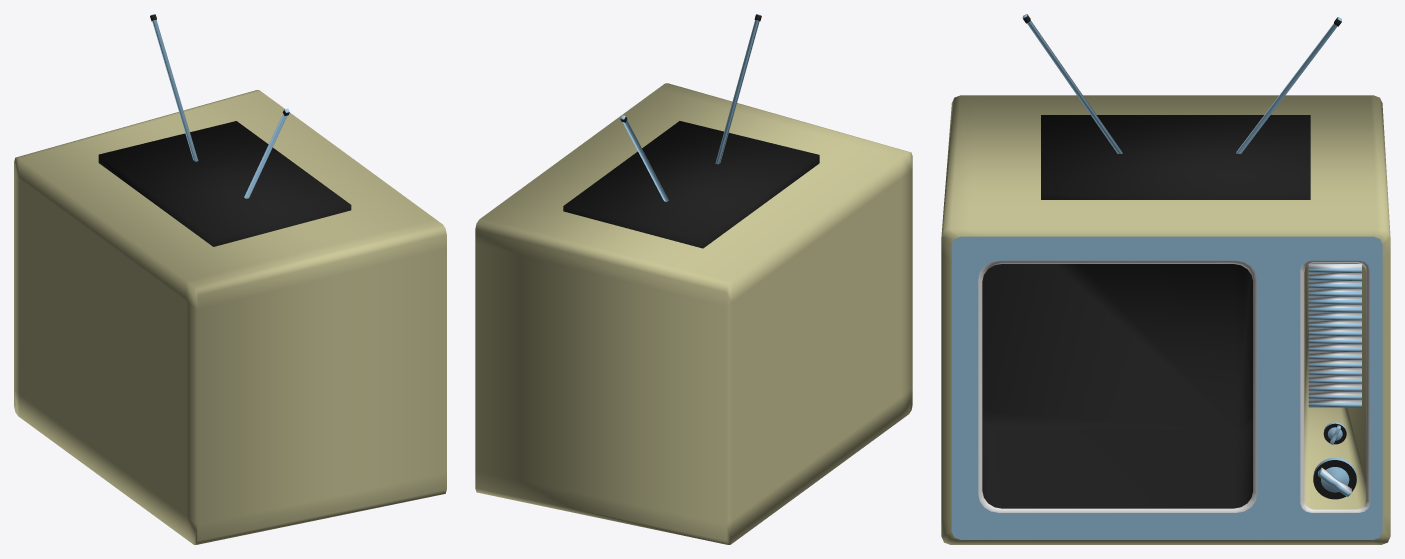
Rendered from Crt.fbx.
3 renders of one model, left to right at view 1: azimuth 30°, elevation 25°; view 2: azimuth 150°, elevation 25°; view 3: azimuth 270°, elevation 25°, orthographic. The views are drawn at different scales.
Visible parts, largest first — view 1: Cube; view 2: Cube; view 3: Cube.
Boxes of the visible parts, x1,y1,x2,y2 form: Cube: (14, 14, 446, 544); Cube: (475, 14, 912, 544); Cube: (941, 14, 1390, 544).
Bounding box in the file's own units: 205 × 303 × 269.
